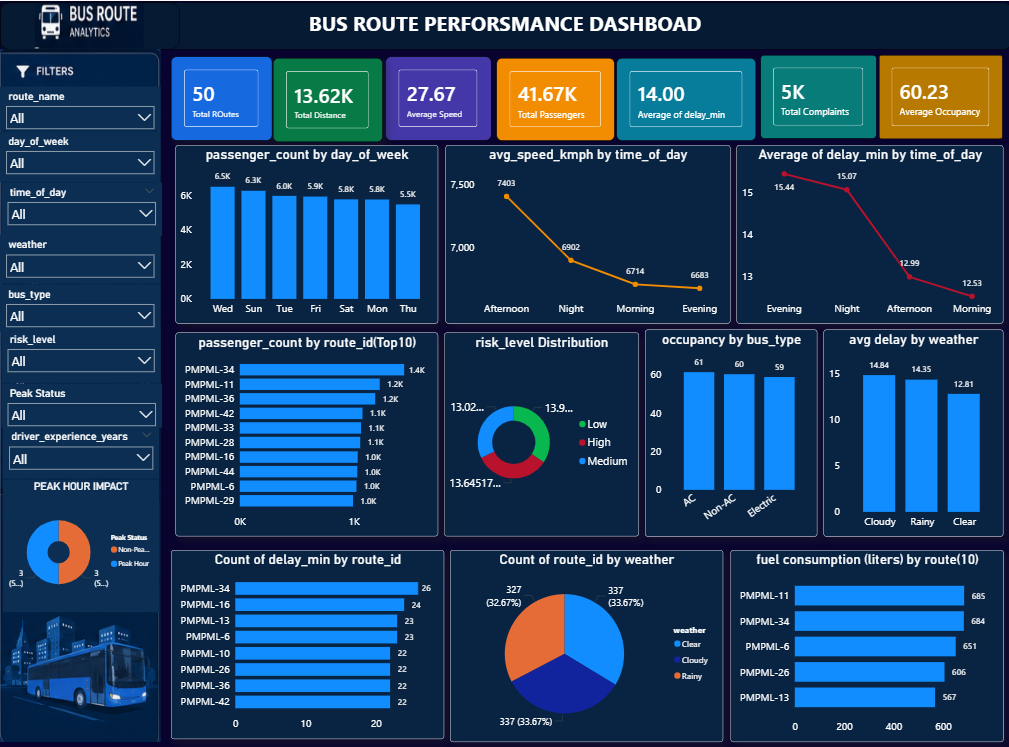

The dashboard page shown, as its layout file describes it:
{"tool":"powerbi","page":{"name":"Page 1","canvas":[1603,1196],"ordinal":0},"visuals":[{"type":"textbox","box":[0,2.4,1603.1,74.7],"z":0,"group":"g2"},{"type":"image","box":[0,76.1,254.7,1099.3],"z":0,"group":"g3"},{"type":"group","id":"g1","title":"Group 1","box":[271.2,85.7,1320.5,135.6],"z":0},{"type":"cardVisual","fields":{"Data":["fact_bus_transport.Total"]},"box":[271.2,88.9,160.7,133.6],"z":0,"group":"g1"},{"type":"group","id":"g2","title":"Group 3","box":[0,2.4,1603.7,73.8],"z":1000},{"type":"image","box":[0,2.4,285,74.7],"z":1000,"group":"g2"},{"type":"cardVisual","fields":{"Data":["fact_bus_transport.Average Speed"]},"box":[611.6,88.6,167.8,133.6],"z":1000,"group":"g1"},{"type":"slicer","fields":{"Values":["route_name_dim.route_name"]},"box":[0,136.6,254.7,70.2],"z":1000,"group":"g3"},{"type":"cardVisual","fields":{"Data":["fact_bus_transport.Total Distance"]},"box":[434.1,91.1,173.7,133.6],"z":1006,"group":"g1"},{"type":"cardVisual","fields":{"Data":["fact_bus_transport.Total Passengers"]},"box":[788.1,89.6,187.2,131.5],"z":2000,"group":"g1"},{"type":"slicer","fields":{"Values":["day_of_week_dim.day_of_week"]},"box":[0,206.8,254.7,79.9],"z":2000,"group":"g3"},{"type":"donutChart","title":" risk_level Distribution","fields":{"Category":["risk_level_dim.risk_level"],"Y":["Avg(fact_bus_transport.distance_km)"]},"box":[704.3,525.8,309.3,323.6],"z":2000},{"type":"cardVisual","fields":{"Data":["Avg(fact_bus_transport.delay_min)"]},"box":[977.5,89.6,221.6,131.5],"z":3000,"group":"g1"},{"type":"columnChart","title":"passenger_count by day_of_week","fields":{"Category":["day_of_week_dim.day_of_week"],"Y":["Sum(fact_bus_transport.passenger_count)"]},"box":[278.4,228.4,416.4,283.1],"z":3000},{"type":"slicer","fields":{"Values":["time_of_day_dim.time_of_day"]},"box":[2.3,286.8,254.7,84.7],"z":3000,"group":"g3"},{"type":"cardVisual","fields":{"Data":["fact_bus_transport.Total Complaints"]},"box":[1205.6,86.9,184,132.6],"z":4000,"group":"g1"},{"type":"lineChart","title":"avg_speed_kmph by time_of_day","fields":{"Category":["time_of_day_dim.time_of_day"],"Y":["Sum(fact_bus_transport.avg_speed_kmph)"]},"box":[706.7,228.4,452.1,283.1],"z":4000},{"type":"slicer","fields":{"Values":["weather_dim.weather"]},"box":[0,371.5,254.7,77.5],"z":4000,"group":"g3"},{"type":"cardVisual","fields":{"Data":["fact_bus_transport.Average Occupancy"]},"box":[1395.2,85.7,195.7,133.6],"z":5000,"group":"g1"},{"type":"lineChart","fields":{"Y":["Avg(fact_bus_transport.delay_min)"],"Category":["time_of_day_dim.time_of_day"]},"box":[1168.3,228.4,423.5,283.1],"z":5000},{"type":"slicer","fields":{"Values":["bus_type_dim.bus_type"]},"box":[0,449,254.7,75.1],"z":5000,"group":"g3"},{"type":"slicer","fields":{"Values":["risk_level_dim.risk_level"]},"box":[2.3,521.6,252.4,84.7],"z":6000,"group":"g3"},{"type":"barChart","title":"passenger_count by route_id(Top10)","fields":{"Y":["Sum(fact_bus_transport.passenger_count)"],"Category":["fact_bus_transport.route_id"]},"box":[278.4,525.8,416.4,323.6],"z":6000},{"type":"columnChart","title":" occupancy by bus_type","fields":{"Category":["bus_type_dim.bus_type"],"Y":["Avg(fact_bus_transport.occupancy_percent)"]},"box":[1023.1,521.1,273.6,328.4],"z":7000},{"type":"slicer","fields":{"Values":["fact_bus_transport.Peak Status"]},"box":[2.3,606.4,254.7,70.2],"z":7000,"group":"g3"},{"type":"columnChart","title":"avg delay by weather","fields":{"Category":["weather_dim.weather"],"Y":["Avg(fact_bus_transport.delay_min)"]},"box":[1306.3,521.1,285.5,328.4],"z":8000},{"type":"slicer","fields":{"Values":["fact_bus_transport.driver_experience_years"]},"box":[4.6,676.6,247.8,82.3],"z":8000,"group":"g3"},{"type":"donutChart","title":"PEAK HOUR IMPACT","fields":{"Category":["fact_bus_transport.Peak Status"],"Y":["Count(fact_bus_transport.Delay Status)"]},"box":[4.6,758.9,247.8,210.7],"z":9000,"group":"g3"},{"type":"barChart","fields":{"Category":["fact_bus_transport.route_id"],"Y":["Count(fact_bus_transport.delay_min)"]},"box":[271.2,870.8,433,299.8],"z":9000},{"type":"clusteredBarChart","title":" fuel consumption (liters) by route(10)","fields":{"Y":["Sum(fact_bus_transport.fuel_consumption_liters)"],"Category":["fact_bus_transport.route_id"]},"box":[1158.7,870.8,433,304.6],"z":10000},{"type":"pieChart","fields":{"Y":["CountNonNull(fact_bus_transport.route_id)"],"Category":["weather_dim.weather"]},"box":[713.8,870.8,433,304.6],"z":11000},{"type":"group","id":"g3","title":"Group 2","box":[0,76.1,257,1099.3],"z":20002}]}

Visuals, with their boxes in screenshot pixels (x1, y1, x2, y2), scaled from the page's 1603x1196 canvas onto the 1009x747 screenshot:
textbox: region(0, 1, 1008, 48)
image: region(0, 48, 160, 734)
"Group 1" group: region(171, 54, 1002, 138)
cardVisual - fact_bus_transport.Total: region(171, 56, 272, 139)
"Group 3" group: region(0, 1, 1008, 48)
image: region(0, 1, 179, 48)
cardVisual - fact_bus_transport.Average Speed: region(385, 55, 491, 139)
slicer - route_name_dim.route_name: region(0, 85, 160, 129)
cardVisual - fact_bus_transport.Total Distance: region(273, 57, 383, 140)
cardVisual - fact_bus_transport.Total Passengers: region(496, 56, 614, 138)
slicer - day_of_week_dim.day_of_week: region(0, 129, 160, 179)
" risk_level Distribution" donutChart: region(443, 328, 638, 531)
cardVisual - Avg(fact_bus_transport.delay_min): region(615, 56, 755, 138)
"passenger_count by day_of_week" columnChart: region(175, 143, 437, 319)
slicer - time_of_day_dim.time_of_day: region(1, 179, 162, 232)
cardVisual - fact_bus_transport.Total Complaints: region(759, 54, 875, 137)
"avg_speed_kmph by time_of_day" lineChart: region(445, 143, 729, 319)
slicer - weather_dim.weather: region(0, 232, 160, 280)
cardVisual - fact_bus_transport.Average Occupancy: region(878, 54, 1001, 137)
lineChart - Avg(fact_bus_transport.delay_min) x time_of_day_dim.time_of_day: region(735, 143, 1002, 319)
slicer - bus_type_dim.bus_type: region(0, 280, 160, 327)
slicer - risk_level_dim.risk_level: region(1, 326, 160, 379)
"passenger_count by route_id(Top10)" barChart: region(175, 328, 437, 531)
" occupancy by bus_type" columnChart: region(644, 325, 816, 531)
slicer - fact_bus_transport.Peak Status: region(1, 379, 162, 423)
"avg delay by weather" columnChart: region(822, 325, 1002, 531)
slicer - fact_bus_transport.driver_experience_years: region(3, 423, 159, 474)
"PEAK HOUR IMPACT" donutChart: region(3, 474, 159, 606)
barChart - fact_bus_transport.route_id x Count(fact_bus_transport.delay_min): region(171, 544, 443, 731)
" fuel consumption (liters) by route(10)" clusteredBarChart: region(729, 544, 1002, 734)
pieChart - CountNonNull(fact_bus_transport.route_id) x weather_dim.weather: region(449, 544, 722, 734)
"Group 2" group: region(0, 48, 162, 734)
